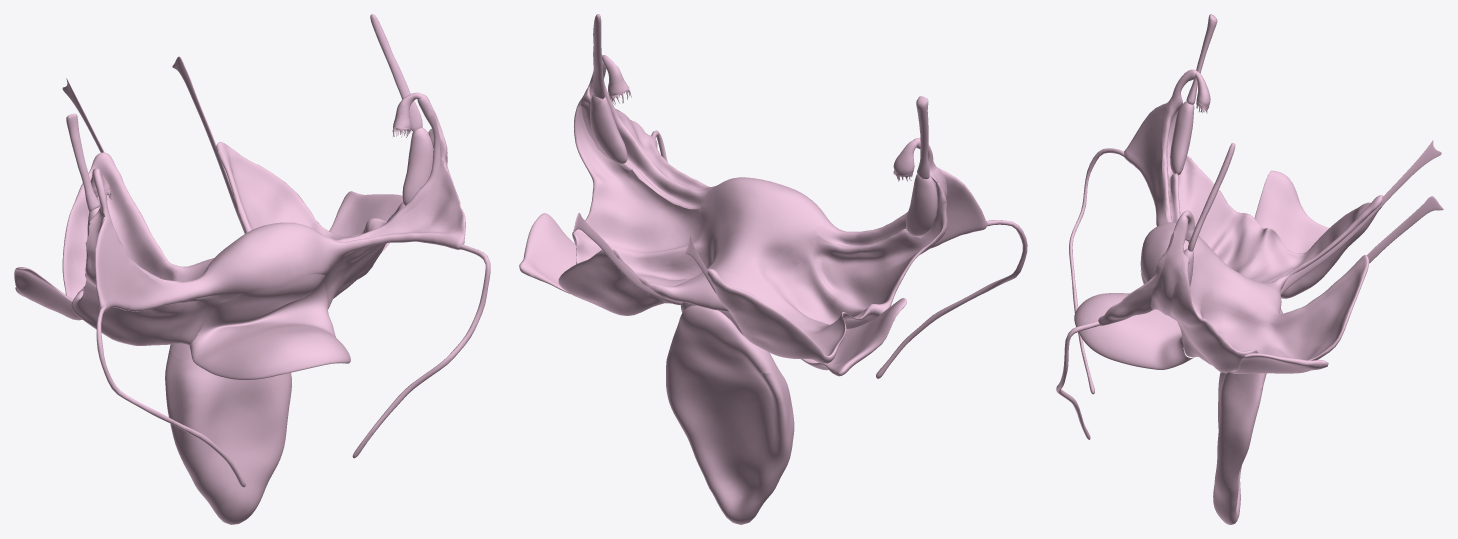
File: genital-f-bassin.hi.glb
3 renders of one model, left to right at view 1: azimuth 30°, elevation 25°; view 2: azimuth 150°, elevation 25°; view 3: azimuth 270°, elevation 25°, orthographic. The views are drawn at different scales.
Parts seen in each view (by area): view 1: HM-ligaments-uterus-ovaries, HM-vagina, HM-ovary-l, HM-fallopian-tube-l; view 2: HM-ligaments-uterus-ovaries, HM-vagina, HM-ovary-l, HM-ovary-r, HM-fallopian-tube-l, HM-fallopian-tube-r; view 3: HM-ligaments-uterus-ovaries, HM-vagina, HM-ovary-r.
Part boxes in pixels (<box>): HM-ligaments-uterus-ovaries: <box>14,14,490,487</box>; HM-vagina: <box>165,343,291,524</box>; HM-ovary-l: <box>402,127,433,205</box>; HM-fallopian-tube-l: <box>392,92,423,137</box>; HM-ligaments-uterus-ovaries: <box>519,14,1027,378</box>; HM-vagina: <box>666,305,794,524</box>; HM-ovary-l: <box>590,95,627,163</box>; HM-ovary-r: <box>906,174,937,236</box>; HM-fallopian-tube-l: <box>602,55,631,104</box>; HM-fallopian-tube-r: <box>893,139,918,181</box>; HM-ligaments-uterus-ovaries: <box>1056,14,1443,439</box>; HM-vagina: <box>1213,308,1282,524</box>; HM-ovary-r: <box>1170,101,1194,174</box>.
Size of the model in its own units: 0.1313 by 0.1494 by 0.1184.
